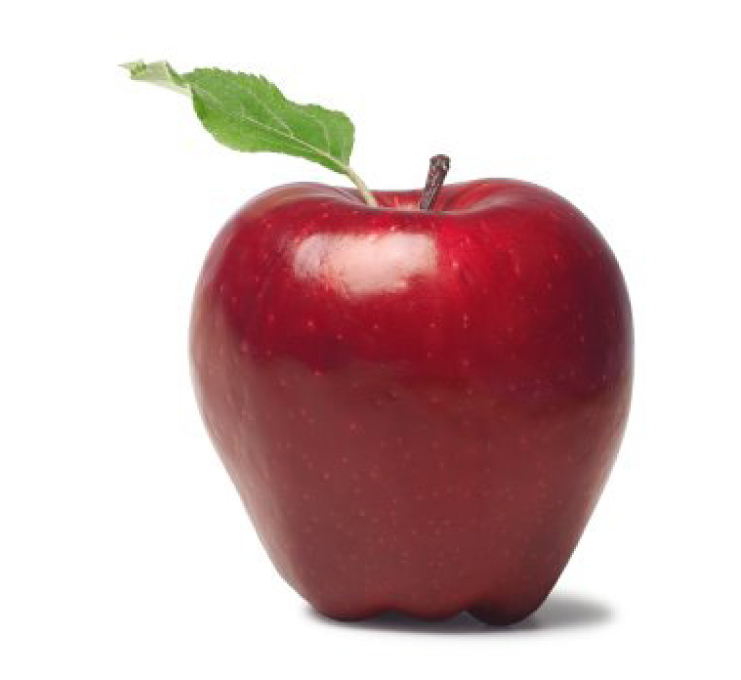apple: (116, 57, 638, 633)
